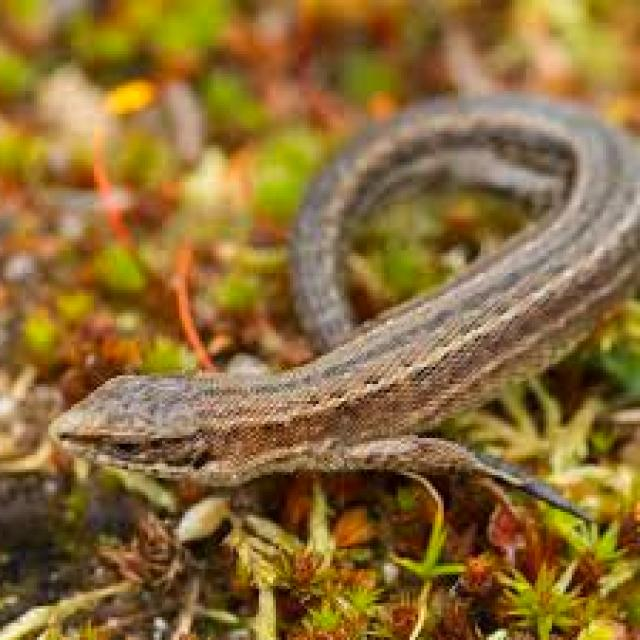lizard: (51, 94, 640, 512)
